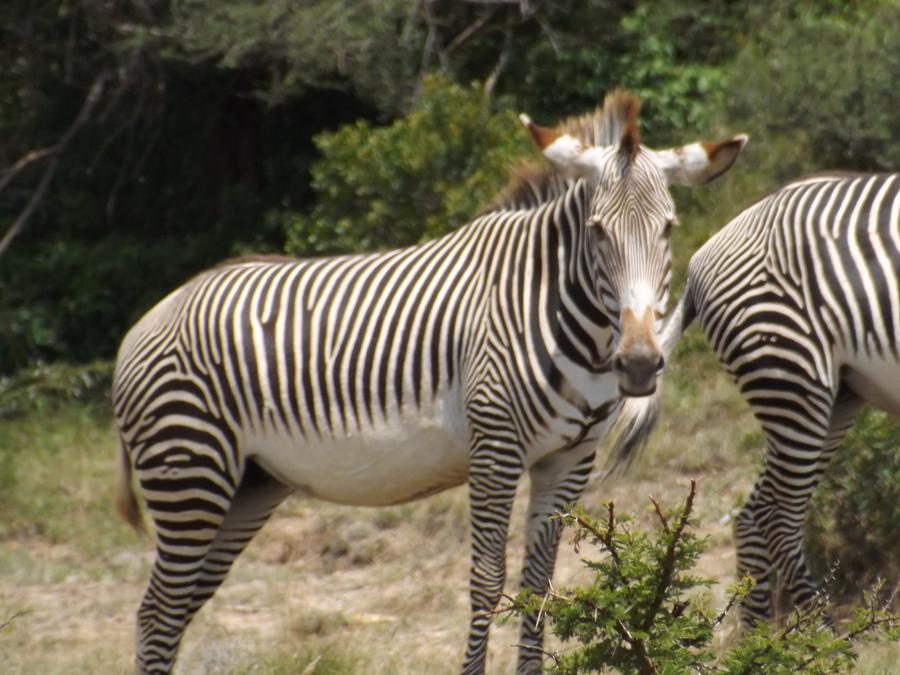zebra_grevys: (125, 256, 557, 450)
